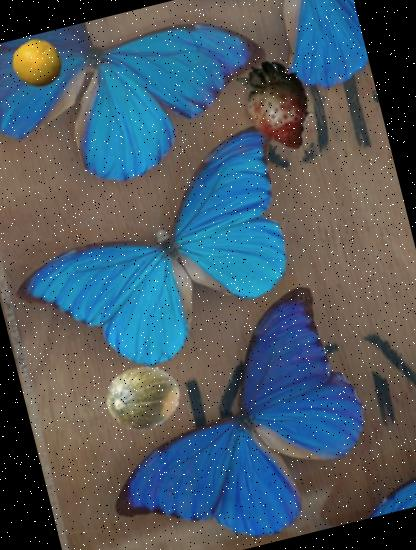Grapefruit: (7, 32, 69, 94)
Melon: (99, 357, 187, 445)
Strawberry: (221, 50, 328, 158)
